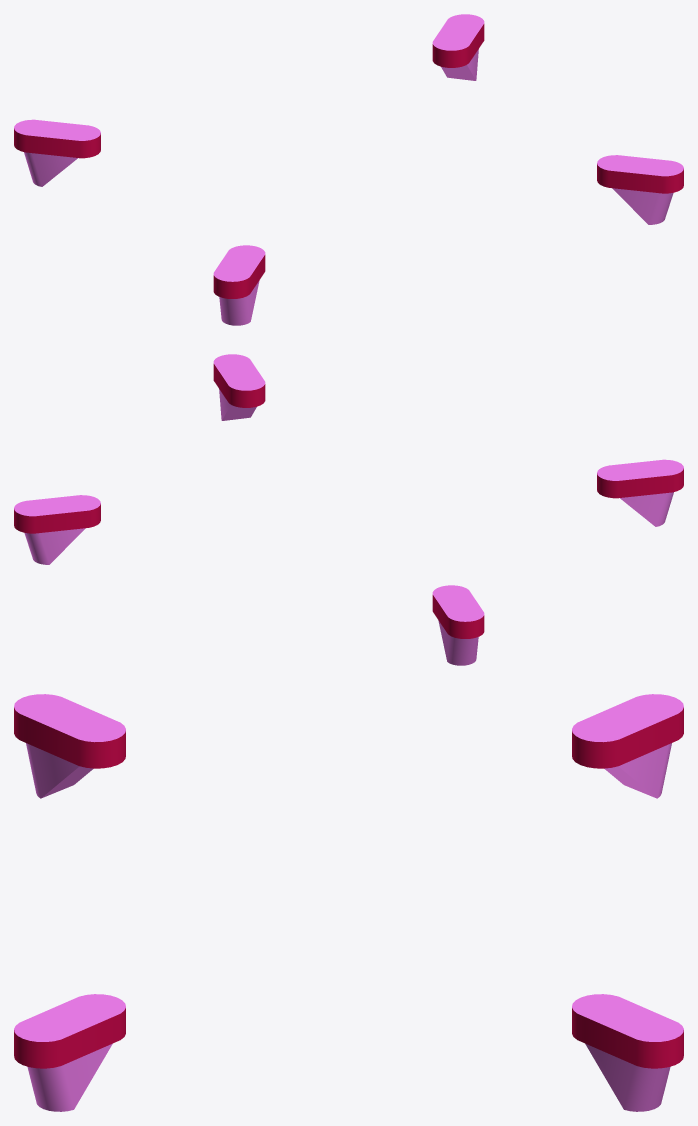
The model's file is Unikko_Leg_A.glb.
3 views of the same model, one above another, from view 1: azimuth 30°, elevation 25°; view 2: azimuth 150°, elevation 25°; view 3: azimuth 270°, elevation 25° (orthographic). The views are drawn at different scales.
Parts seen in each view (by area): view 1: Unikko_Leg_A; view 2: Unikko_Leg_A; view 3: Unikko_Leg_A.
Part boxes in pixels (box(x1,y1,x2,y2)): Unikko_Leg_A: box(14, 14, 683, 325); Unikko_Leg_A: box(14, 354, 683, 665); Unikko_Leg_A: box(14, 694, 683, 1111).
Size of the model in its own units: 0.3796 by 0.0404 by 0.3088.
Materials: 2 (1 with a texture image).
